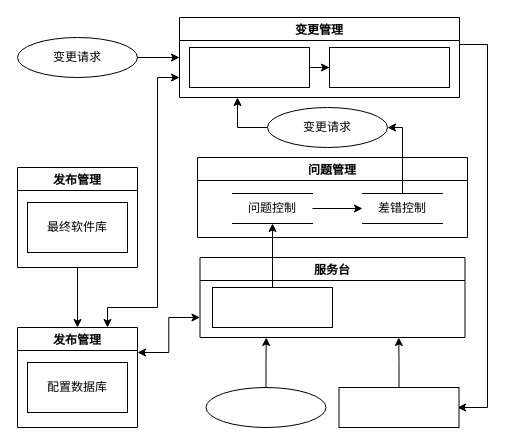
This 513x445 diagram has some shape labels left out. Each missing label, with the centre of its shape:
"IT服务执行" belongs at point 398,407.
"事件" belongs at point 265,407.
"事件管理" belongs at point 272,307.
"影响分析" belongs at point 249,67.
"授权" belongs at point 389,67.
